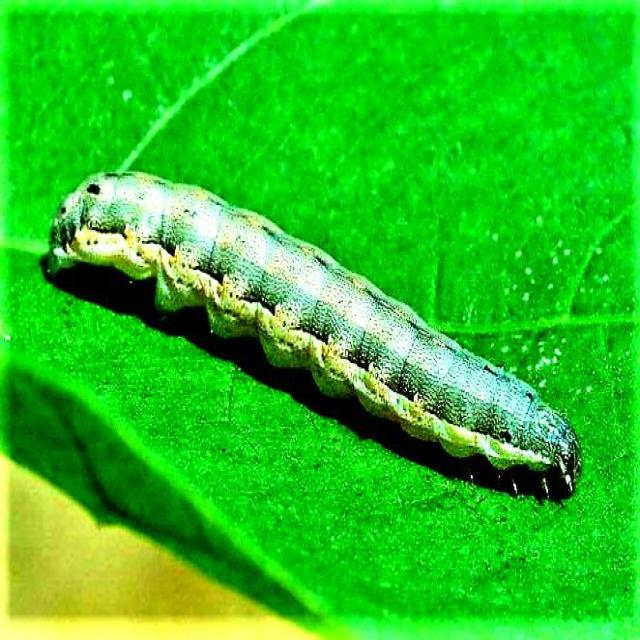armyworm: (43, 168, 582, 502)
